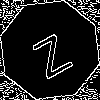Z: (25, 25, 74, 80)
